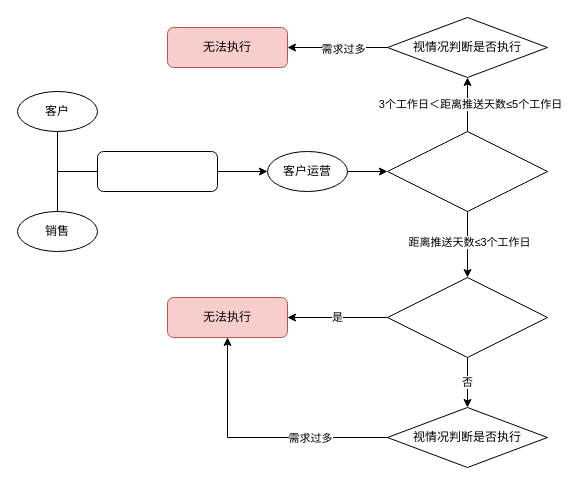
This 579x485 diagram has some shape labels left out. Each missing label, with the centre of its shape:
判断是否为加急需求: (x=467, y=171)
商业微信需求: (x=157, y=171)
当前是否为旺季 （3、4、10、11月）: (x=467, y=317)
